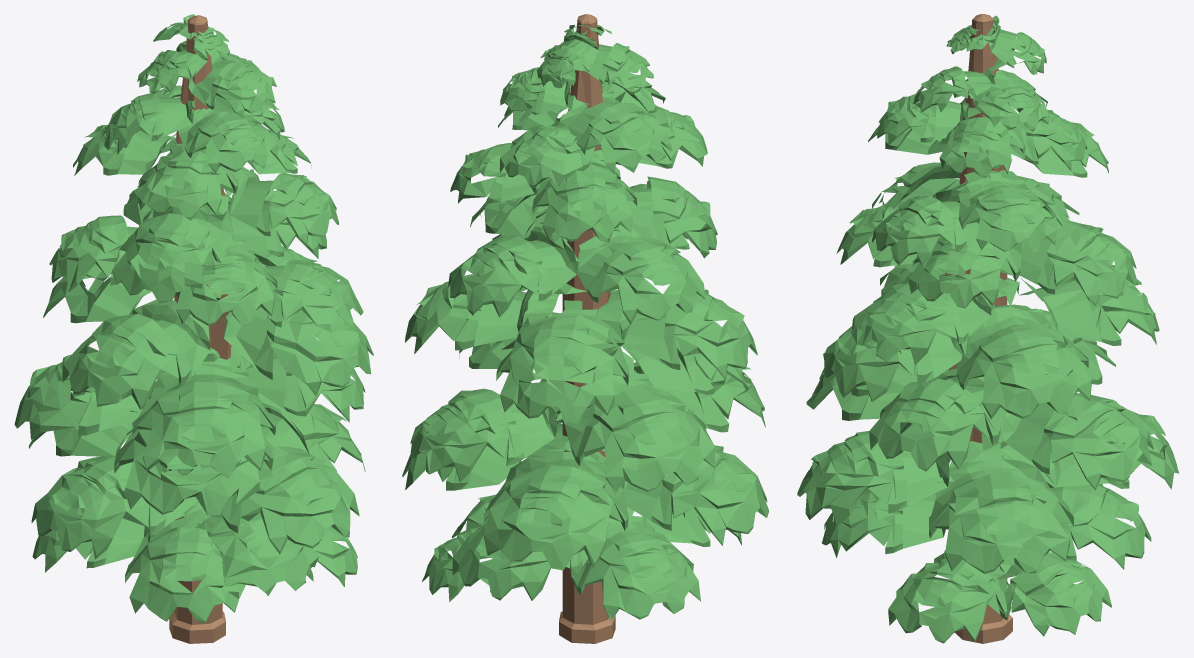
File: nat_cedar2.glb
3 renders of one model, left to right at view 1: azimuth 30°, elevation 25°; view 2: azimuth 150°, elevation 25°; view 3: azimuth 270°, elevation 25°, orthographic.
Parts seen in each view (by area): view 1: geometry_0; view 2: geometry_0; view 3: geometry_0.
Boxes of the visible parts, box(x1,y1,x2,y2) form: geometry_0: box(14, 14, 373, 643); geometry_0: box(402, 14, 768, 643); geometry_0: box(797, 14, 1179, 643).
Size of the model in its own units: 0.1343 by 0.2451 by 0.1377.
